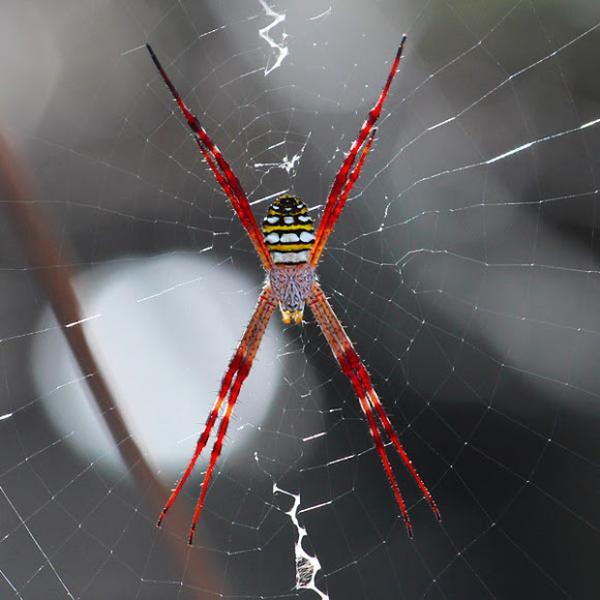St Andrew's Cross Spider: (148, 32, 446, 542)
